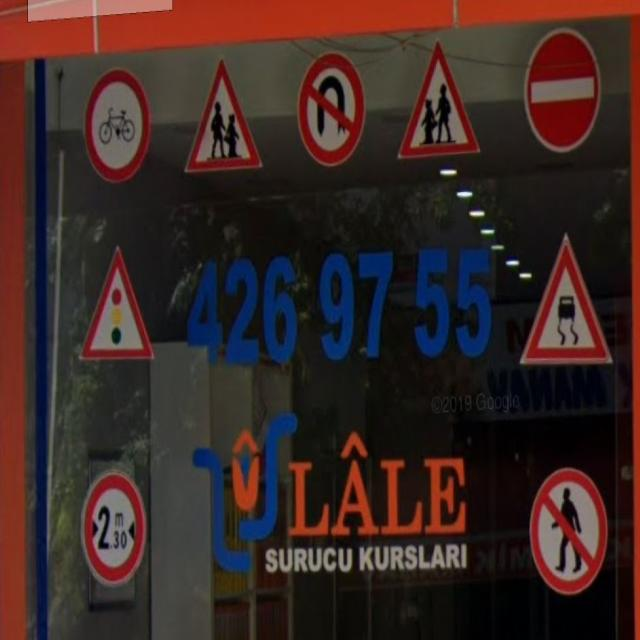girisyok: (526, 30, 601, 152)
